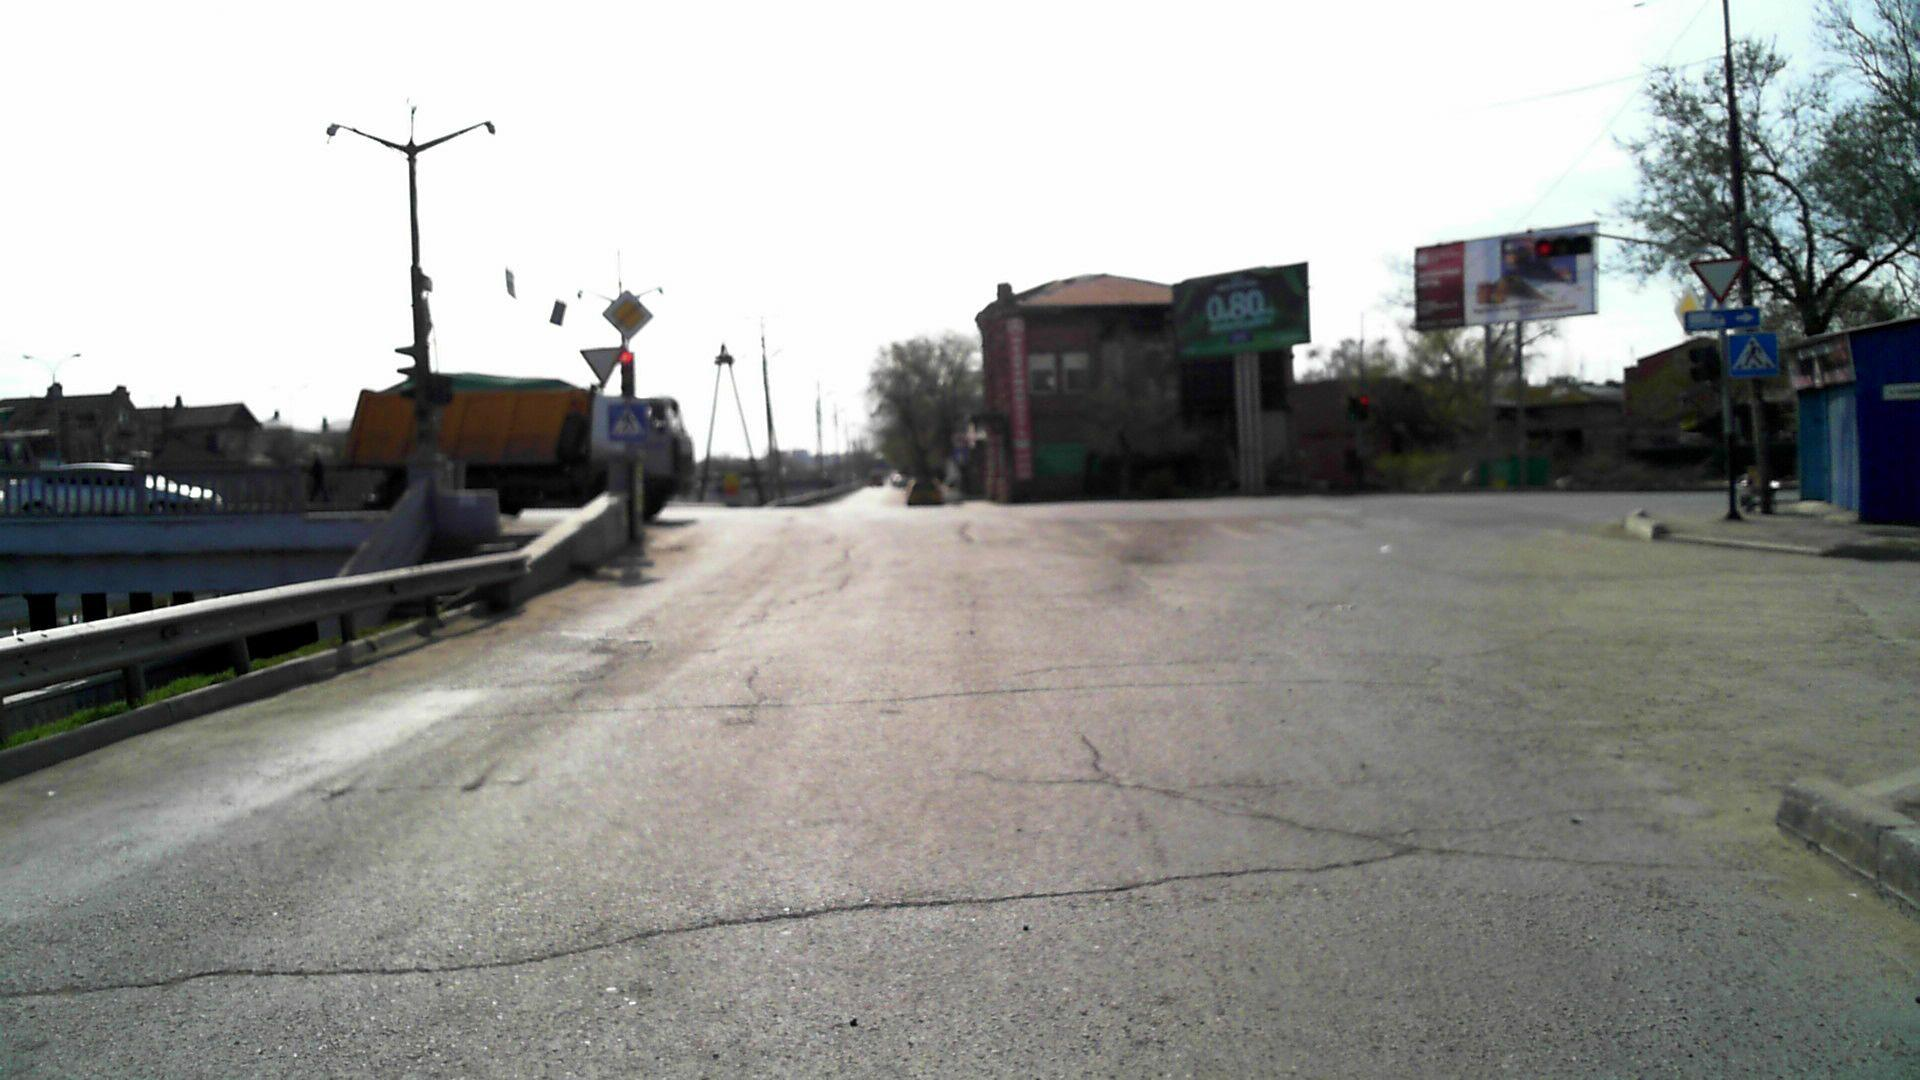2_2: (601, 291, 654, 342)
2_4: (1691, 257, 1746, 302), (580, 347, 625, 386)
3_4: (951, 431, 969, 450)
5_19_1: (1730, 332, 1776, 376)
5_19_2: (607, 401, 647, 442)
5_5: (953, 448, 969, 467)
6_15_2: (1683, 307, 1767, 330)
